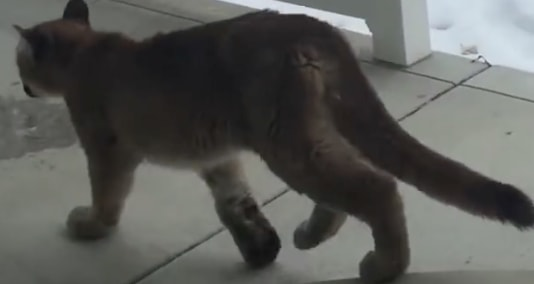Mountain Lion: (14, 7, 531, 280)
